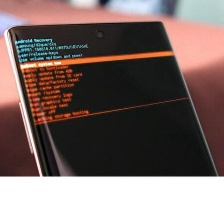phone: (2, 15, 224, 224)
